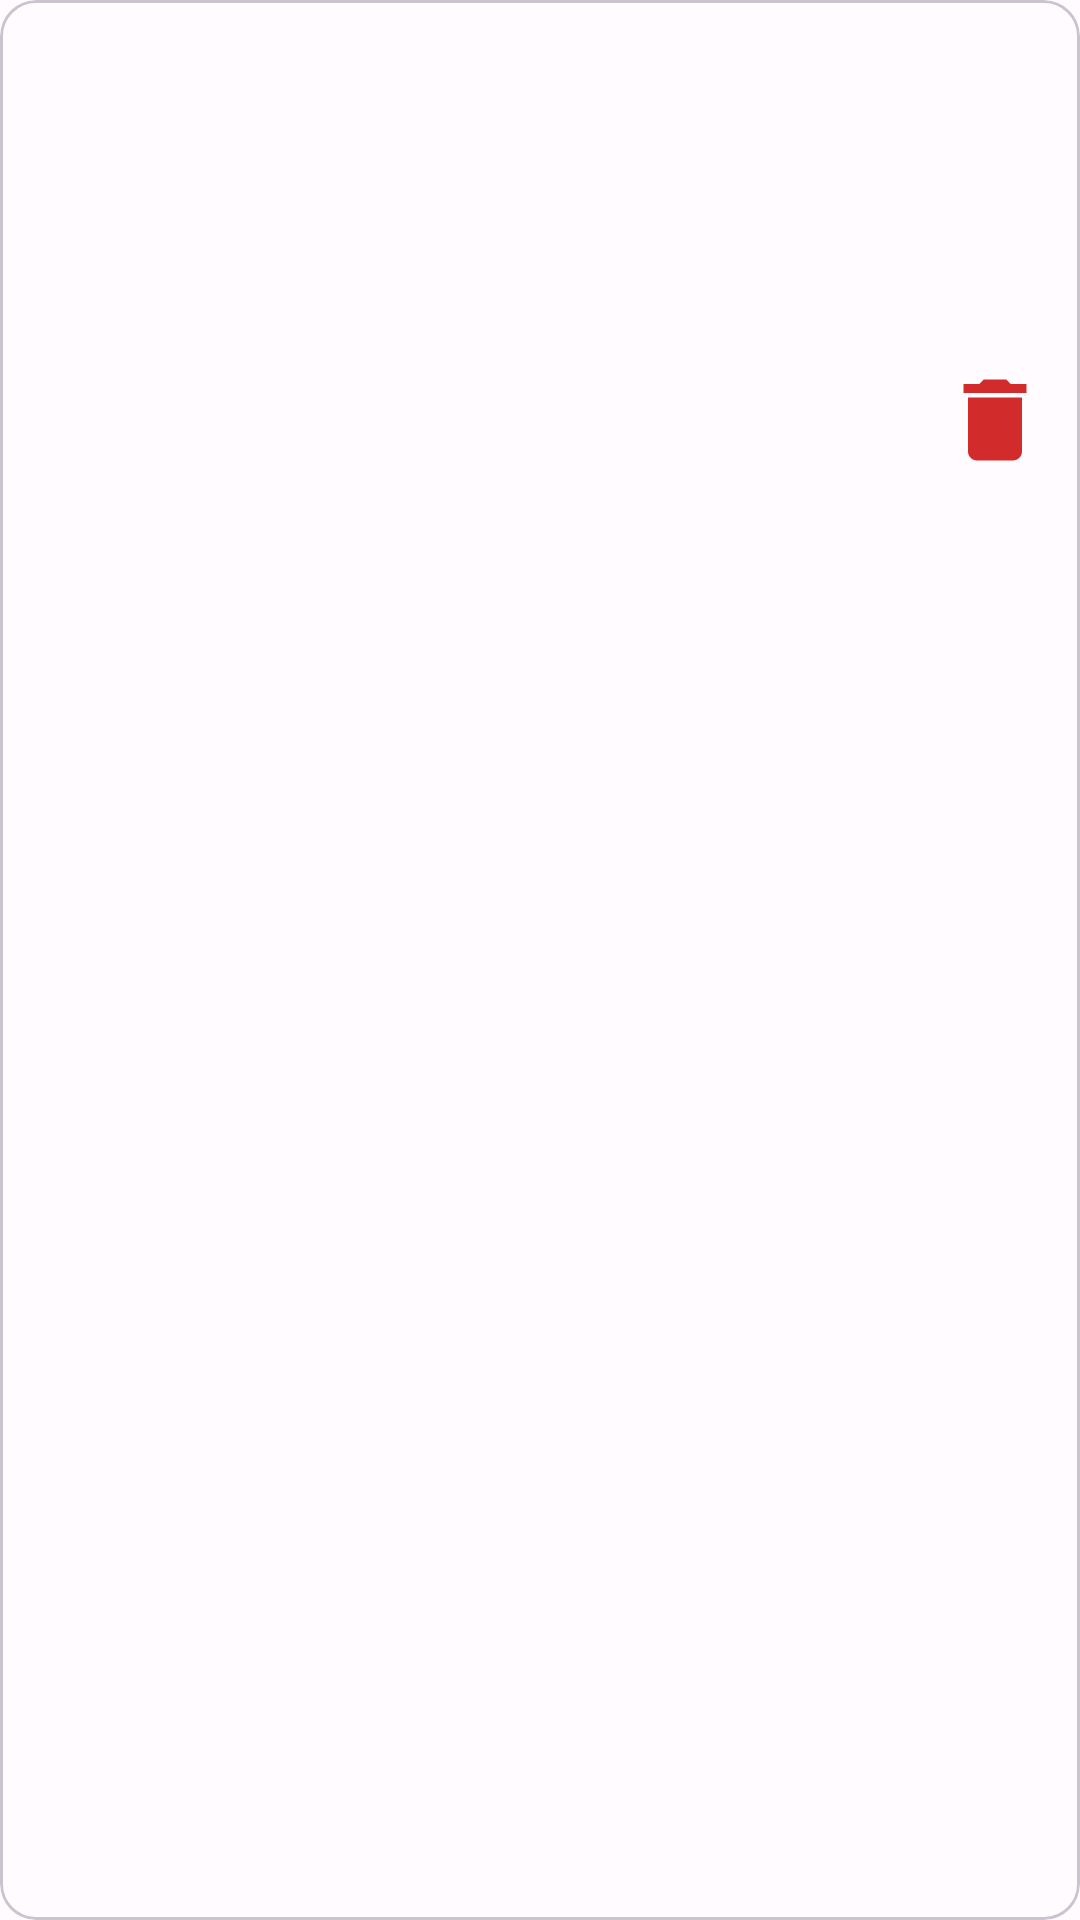

Where icons sit on this 1080 x 1920 app screen, as bbox(x1, y1, x2, y2):
delete: bbox(963, 379, 1027, 461)
